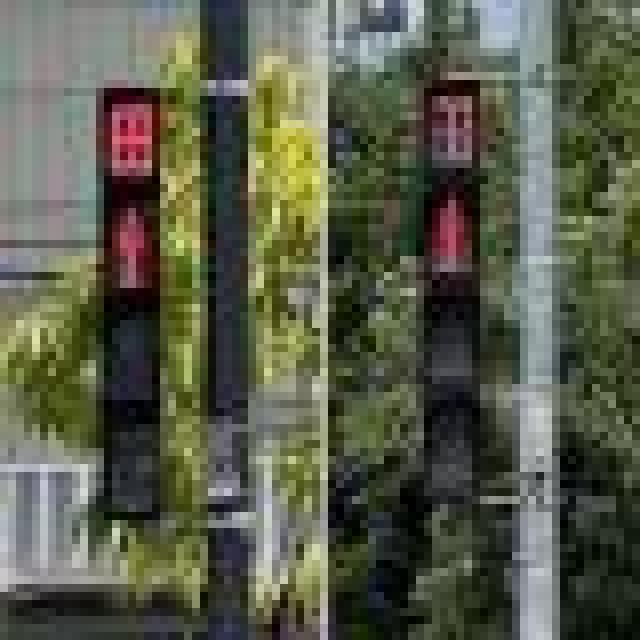redlight: (420, 184, 494, 392), (96, 160, 160, 400)
